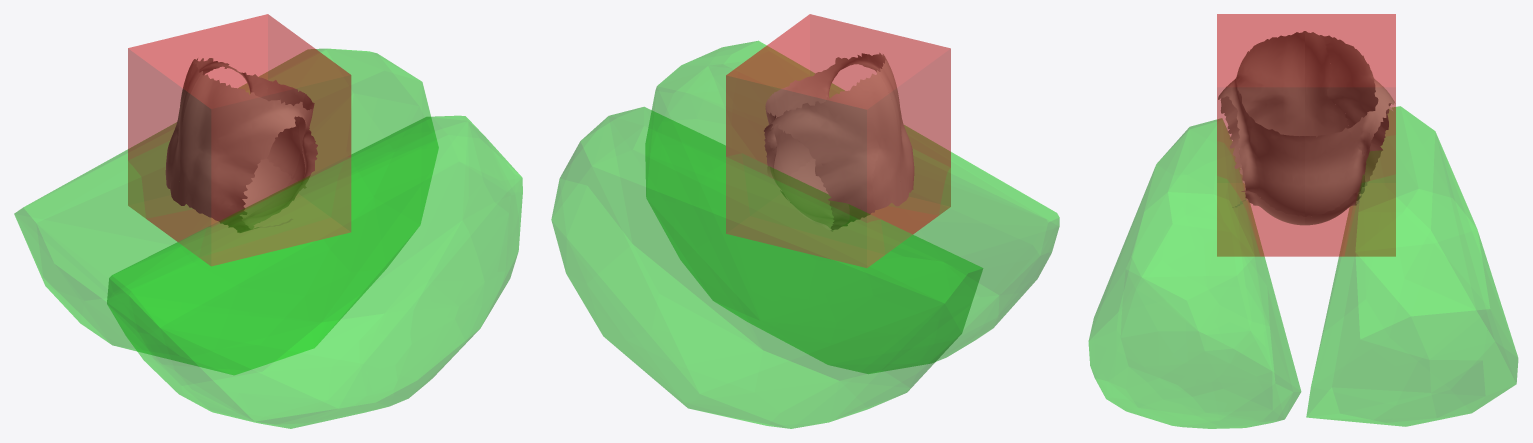
The model's file is Pelvis_view.dae.
The picture shows the model from 3 angles, left to right: view 1: azimuth 30°, elevation 25°; view 2: azimuth 150°, elevation 25°; view 3: azimuth 270°, elevation 25°; orthographic projection. The views are drawn at different scales.
Parts seen in each view (by area): view 1: rfootrom, lfootrom, pelvis_box, Pelvis; view 2: lfootrom, rfootrom, pelvis_box, Pelvis; view 3: rfootrom, lfootrom, pelvis_box, Pelvis.
Part boxes in pixels (bbox=[...]): rfootrom: bbox=[107, 115, 522, 428]; lfootrom: bbox=[14, 48, 438, 374]; pelvis_box: bbox=[128, 14, 351, 266]; Pelvis: bbox=[165, 58, 317, 232]; lfootrom: bbox=[551, 107, 983, 428]; rfootrom: bbox=[645, 40, 1059, 373]; pelvis_box: bbox=[726, 14, 950, 267]; Pelvis: bbox=[764, 52, 914, 231]; rfootrom: bbox=[1088, 118, 1301, 428]; lfootrom: bbox=[1306, 106, 1518, 426]; pelvis_box: bbox=[1217, 14, 1395, 256]; Pelvis: bbox=[1218, 31, 1395, 225].
Size of the model in its own units: 1 by 0.8661 by 0.7701.
